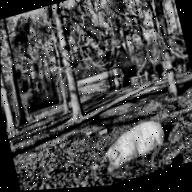boar: (95, 117, 172, 174)
